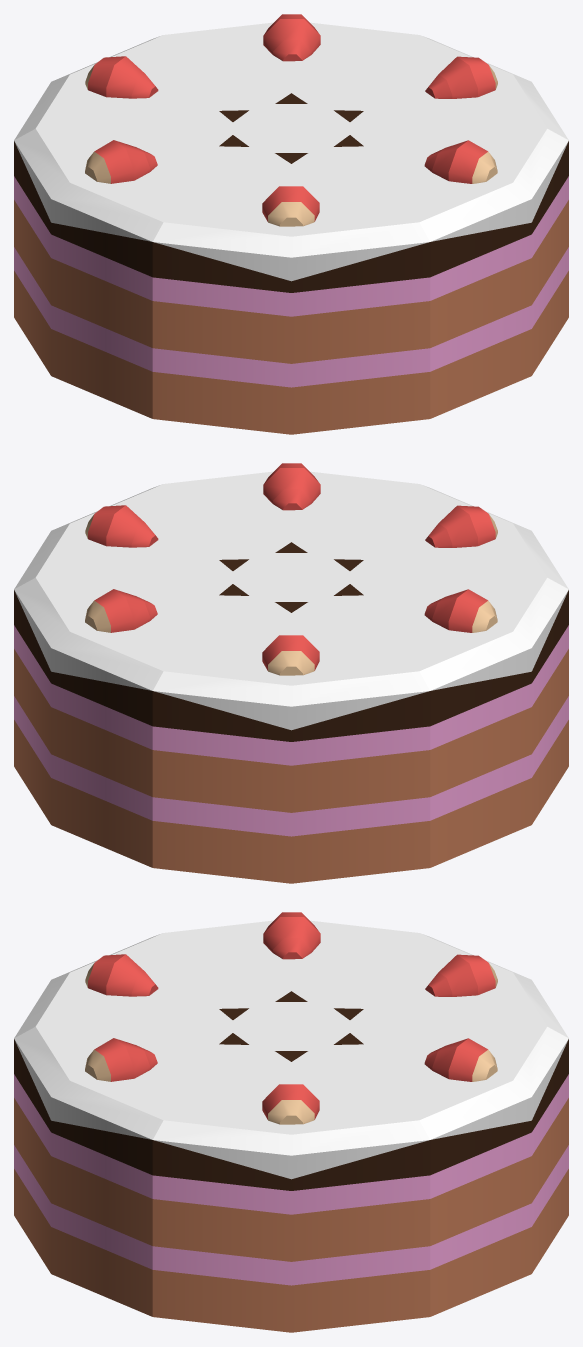
File: Cake.glb
The picture shows the model from 3 angles, top to bottom: view 1: azimuth 30°, elevation 25°; view 2: azimuth 150°, elevation 25°; view 3: azimuth 270°, elevation 25°; orthographic projection.
Parts seen in each view (by area): view 1: Cake; view 2: Cake; view 3: Cake.
Boxes of the visible parts, x1=… form: Cake: x1=14, y1=14, x2=568, y2=434; Cake: x1=14, y1=463, x2=568, y2=883; Cake: x1=14, y1=912, x2=568, y2=1332.
Size of the model in its own units: 0.2867 by 0.1225 by 0.2867.
